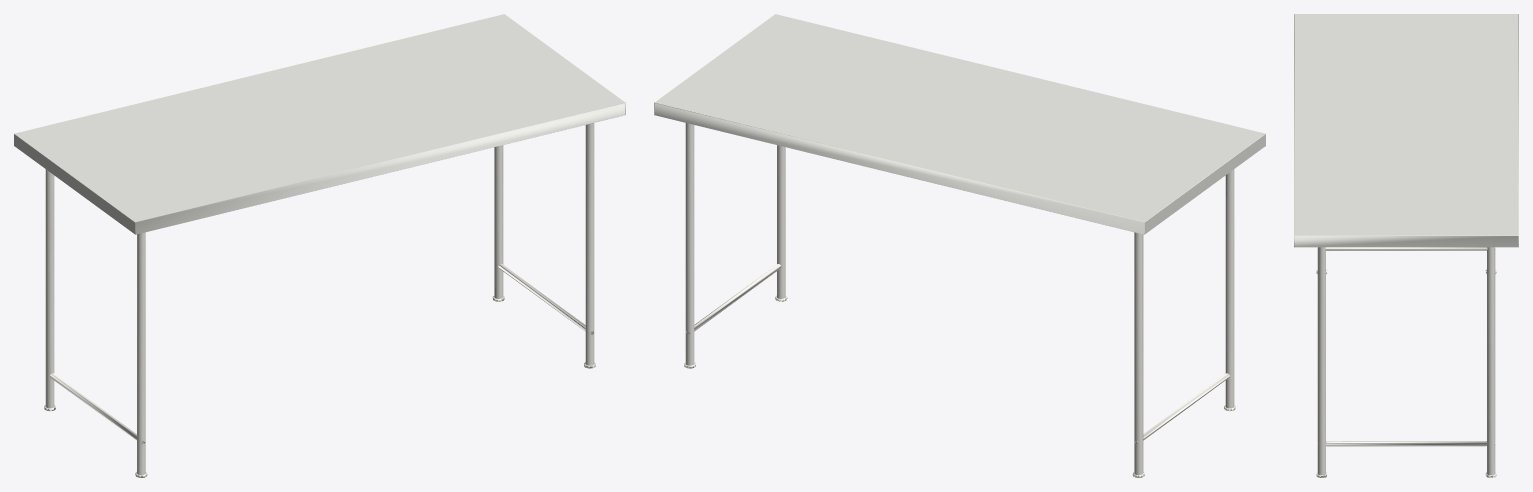
Rendered from LAGKAPTEN  SPÄND radni stol - bijela (1).fbx.
The picture shows the model from 3 angles, left to right: view 1: azimuth 30°, elevation 25°; view 2: azimuth 150°, elevation 25°; view 3: azimuth 270°, elevation 25°; orthographic projection. The views are drawn at different scales.
Visible parts, largest first — view 1: Mesh_0, Mesh_1; view 2: Mesh_0, Mesh_1; view 3: Mesh_0, Mesh_1.
Boxes of the visible parts, x1,y1,x2,y2 form: Mesh_0: (14, 14, 625, 234); Mesh_1: (44, 123, 595, 477); Mesh_0: (654, 14, 1265, 234); Mesh_1: (684, 123, 1235, 477); Mesh_0: (1294, 14, 1518, 247); Mesh_1: (1316, 247, 1496, 477).
Size of the model in its own units: 140 by 73.41 by 59.98.
2 materials, 2 textured.
